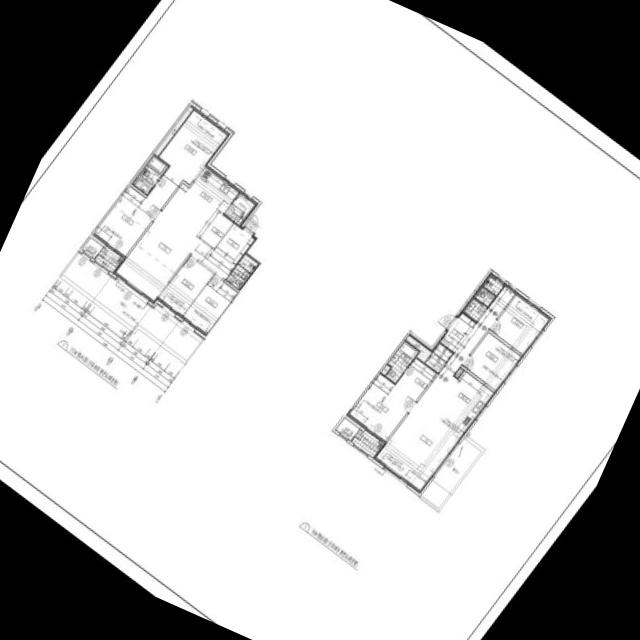background: (0, 0, 640, 640)
space_balconi: (351, 429, 381, 457), (95, 247, 121, 272)
space_bedroom: (92, 168, 182, 258), (346, 374, 415, 443), (490, 293, 551, 355), (463, 332, 522, 391), (157, 256, 213, 317), (181, 275, 237, 335)
space_dressroom: (158, 108, 229, 184), (395, 358, 436, 401)
space_front: (213, 223, 256, 265), (439, 312, 476, 353)
space_kitchen: (162, 165, 240, 241), (424, 371, 495, 439)
space_living_room: (373, 284, 516, 493), (113, 211, 235, 303)
space_multipurpose_space: (224, 191, 256, 225)
space_other: (154, 105, 194, 156), (203, 215, 233, 248), (425, 343, 452, 372), (405, 334, 432, 362), (380, 365, 390, 375), (454, 368, 463, 377)
space_outdoor_room: (335, 417, 359, 440), (82, 238, 102, 258)
space_toilet: (464, 277, 503, 321), (132, 155, 168, 195), (385, 341, 418, 383), (225, 253, 259, 290)
